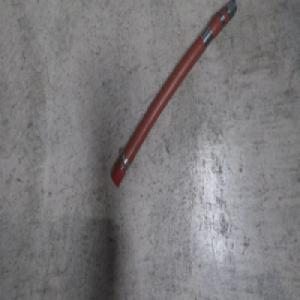Hose: (108, 2, 238, 190)
